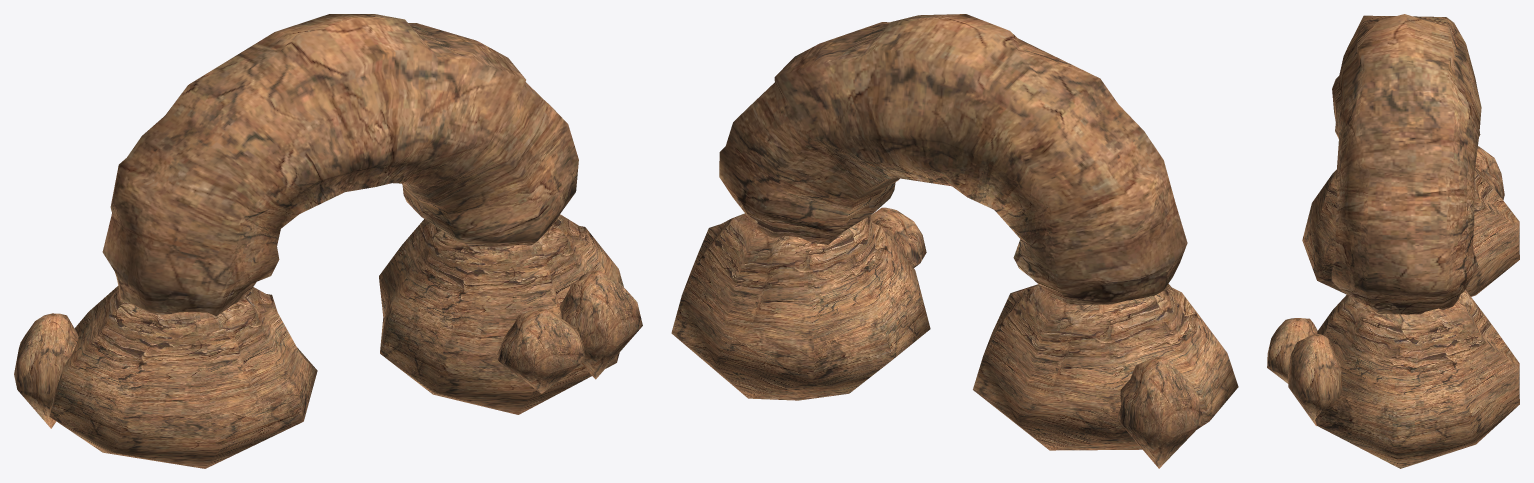
The model's file is rock_tatt_arch_lrg_l1.fbx.
The picture shows the model from 3 angles, left to right: view 1: azimuth 30°, elevation 25°; view 2: azimuth 150°, elevation 25°; view 3: azimuth 270°, elevation 25°; orthographic projection. The views are drawn at different scales.
Visible parts, largest first — view 1: mesh_node; view 2: mesh_node; view 3: mesh_node.
Part boxes in pixels (x1,y1,x2,y2): mesh_node: [14, 14, 642, 468]; mesh_node: [671, 14, 1238, 468]; mesh_node: [1267, 14, 1519, 468].
Bounding box in the file's own units: 84.94 × 60.4 × 38.07.
